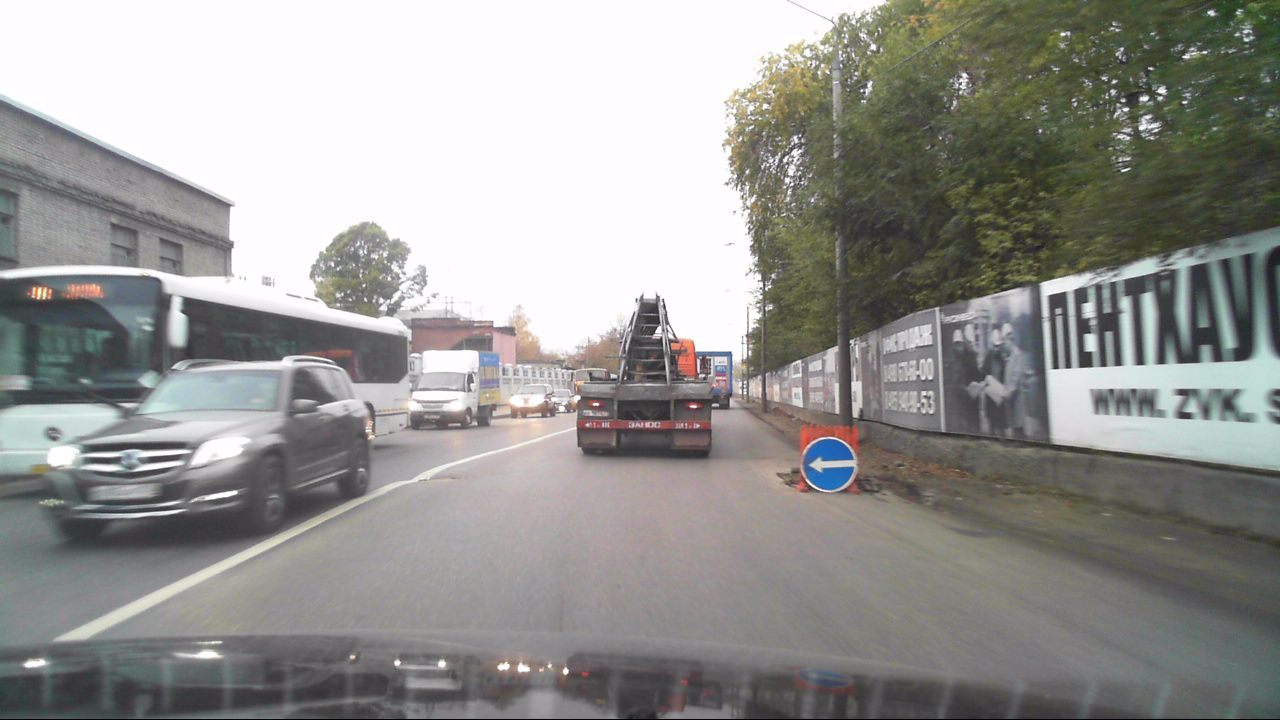Turn Left: (800, 436, 856, 493)
